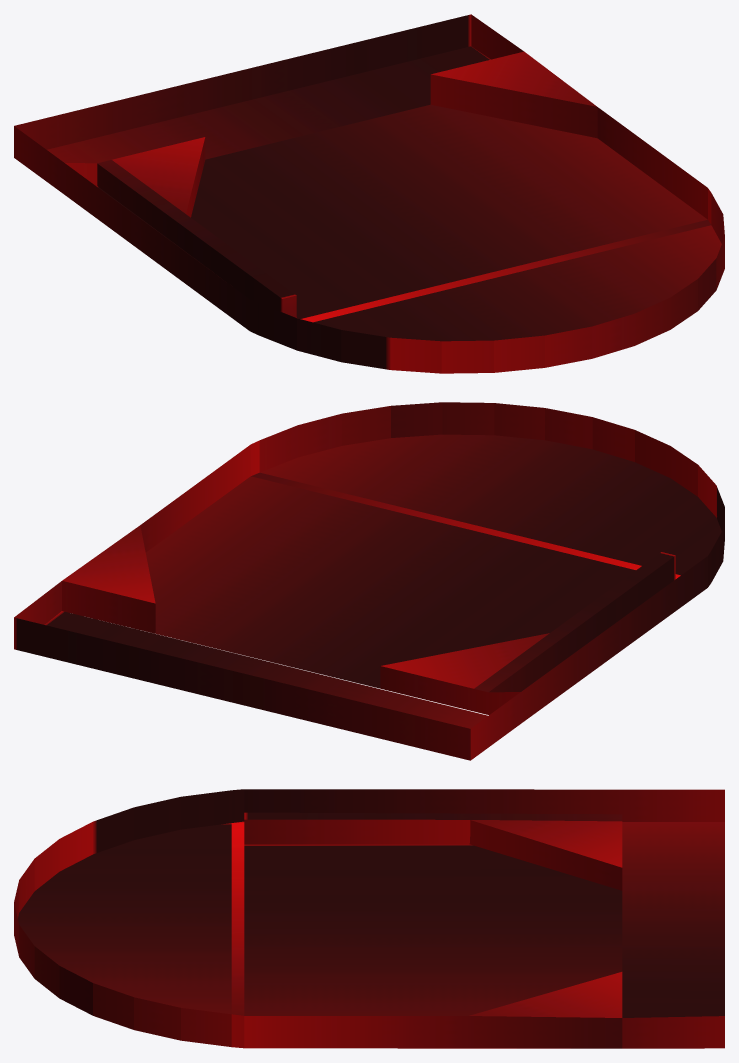
The model's file is boardfinal.obj.
3 views of the same model, one above another, from view 1: azimuth 30°, elevation 25°; view 2: azimuth 150°, elevation 25°; view 3: azimuth 270°, elevation 25° (orthographic).
Visible parts, largest first — view 1: Cube; view 2: Cube; view 3: Cube.
Boxes of the visible parts, x1,y1,x2,y2 form: Cube: (14, 14, 724, 373); Cube: (14, 402, 724, 760); Cube: (14, 789, 724, 1048).
Bounding box in the file's own units: 63.62 × 4.27 × 83.82.
Materials: 1 (1 with a texture image).
